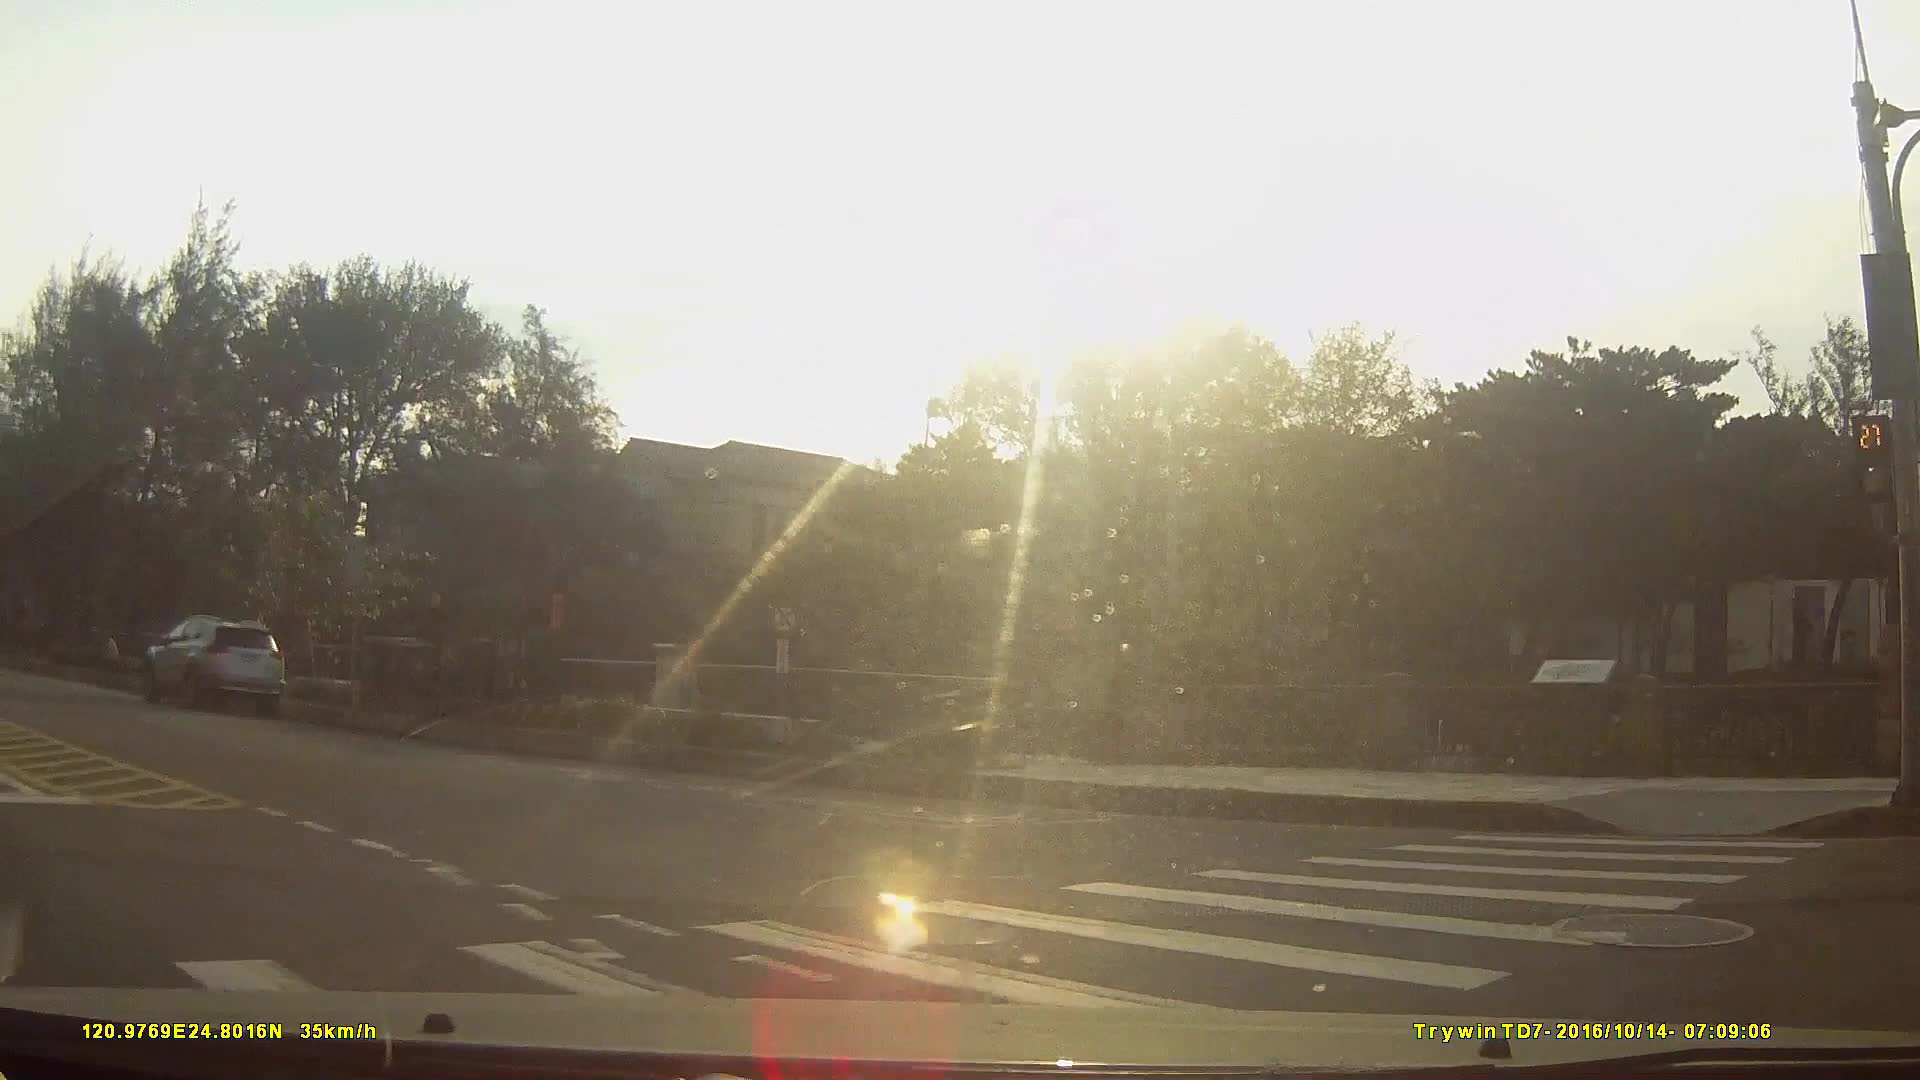vehicle: (141, 611, 284, 713)
